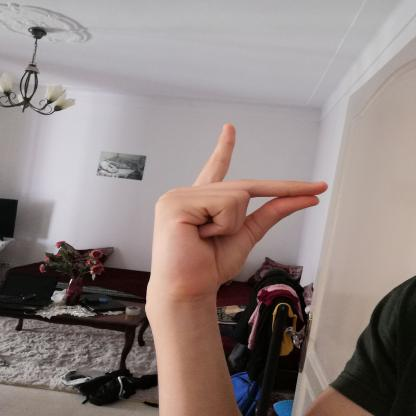TAA: (136, 114, 338, 308)
